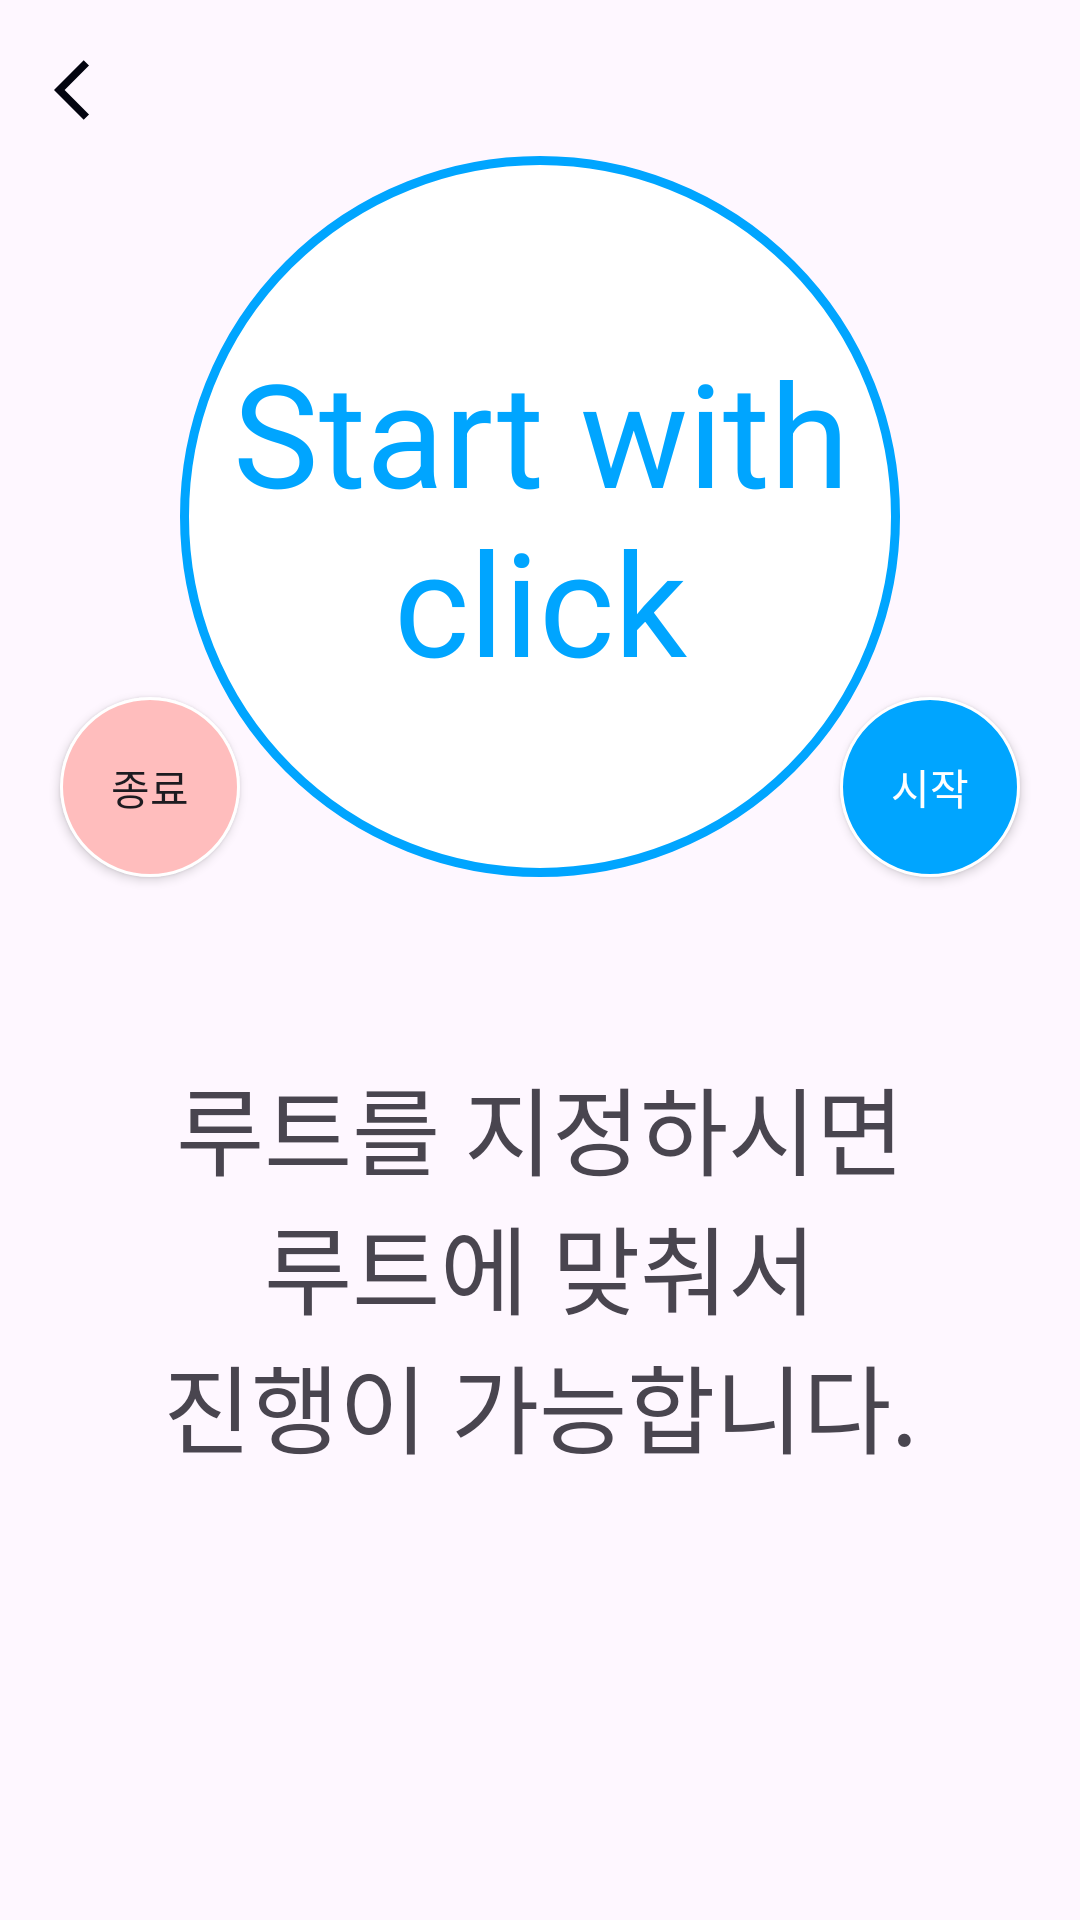

Locate icon controls on the screen. Image size 1080 × 1920, boxes as (x1, y1, x2, y2).
back: (54, 60, 89, 120)
